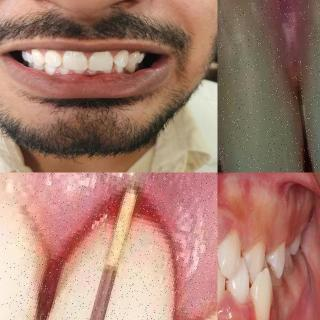Gum Swelling: (218, 205, 236, 247)
maligned: (245, 233, 269, 287), (255, 268, 274, 320)
stains: (85, 58, 92, 66), (110, 55, 116, 63)
